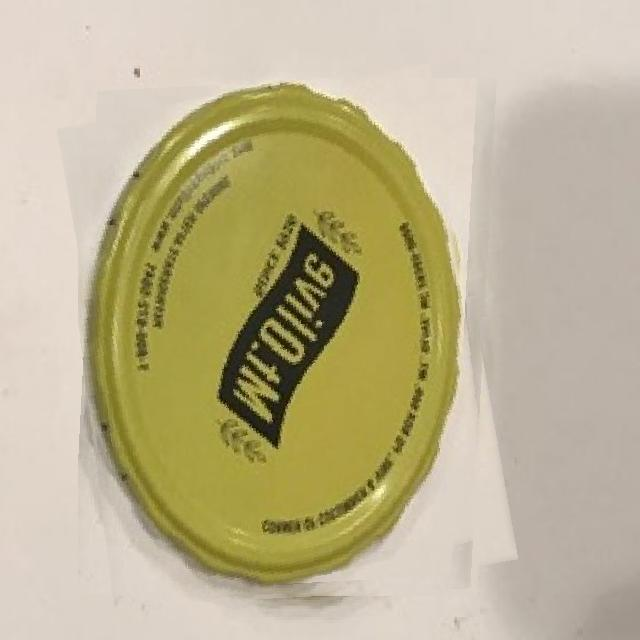recyclable: (78, 78, 498, 610)
